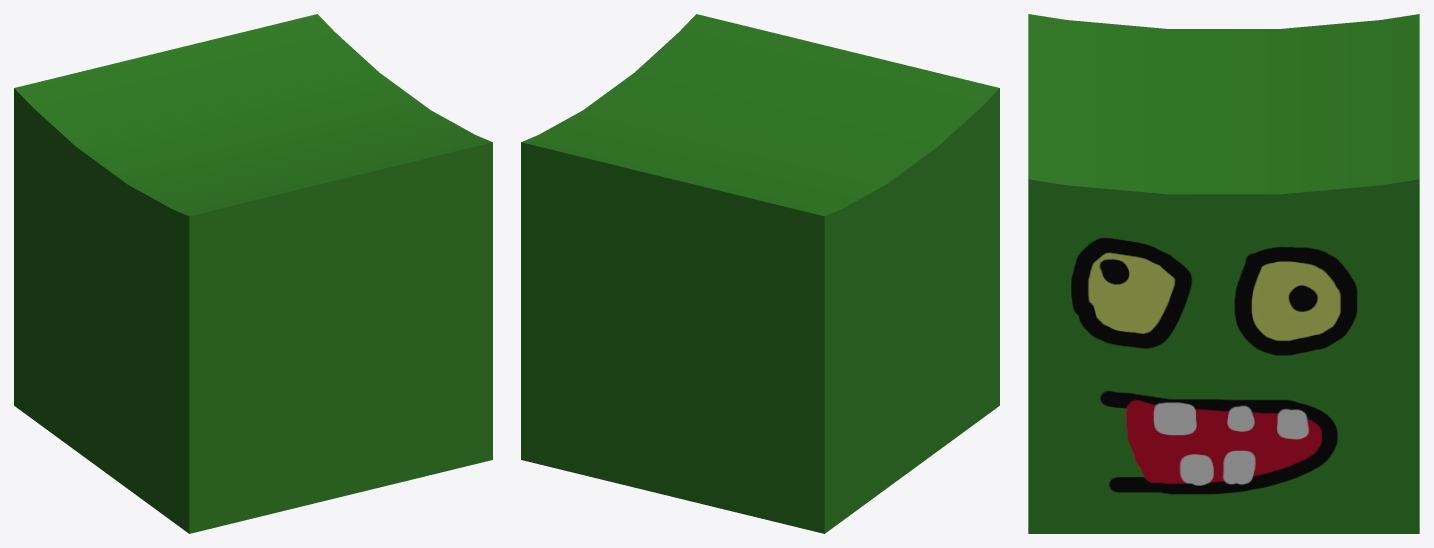
File: zombie.fbx
3 renders of one model, left to right at view 1: azimuth 30°, elevation 25°; view 2: azimuth 150°, elevation 25°; view 3: azimuth 270°, elevation 25°, orthographic. The views are drawn at different scales.
Visible parts, largest first — view 1: Cube; view 2: Cube; view 3: Cube.
Boxes of the visible parts, left/top/right/bottom form: Cube: left=14, top=14, right=492, bottom=533; Cube: left=521, top=14, right=999, bottom=533; Cube: left=1028, top=14, right=1419, bottom=533.
Size of the model in its own units: 200 by 200 by 200.
